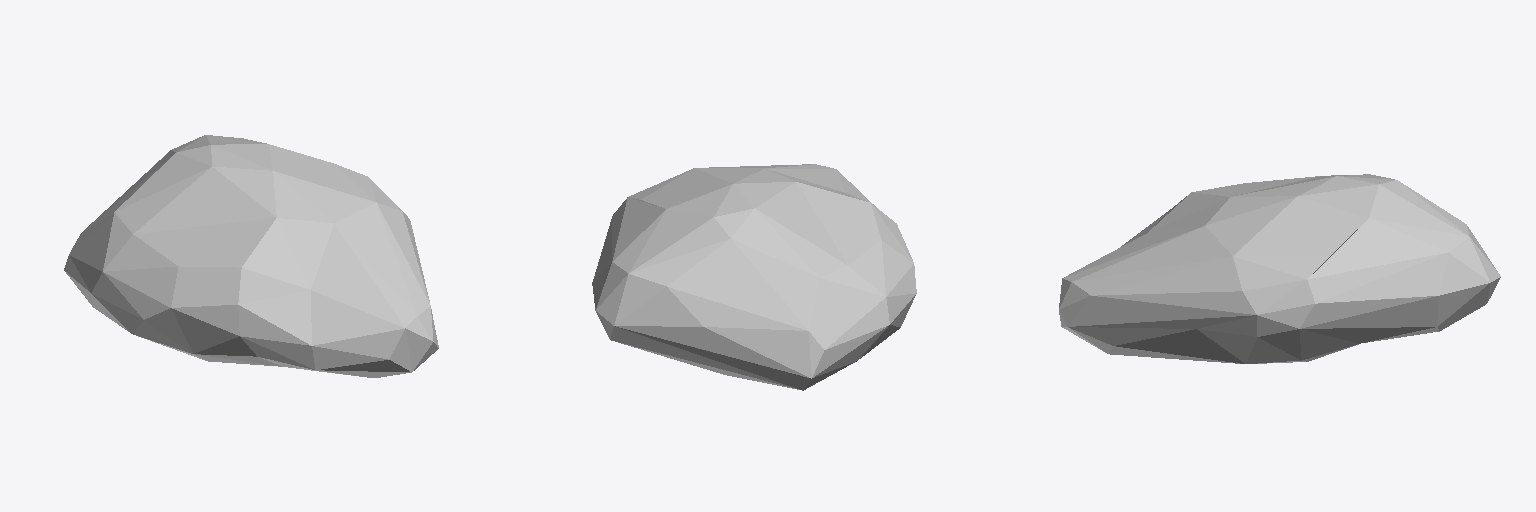
File: rock_03.obj
3 views of the same model, side by side, from view 1: azimuth 30°, elevation 25°; view 2: azimuth 150°, elevation 25°; view 3: azimuth 270°, elevation 25° (orthographic).
Visible parts, largest first — view 1: Icosphere; view 2: Icosphere; view 3: Icosphere.
Part boxes in pixels (x1,y1,x2,y2): Icosphere: (64,135,438,377); Icosphere: (592,164,916,390); Icosphere: (1059,174,1500,363).
Bounding box in the file's own units: 2.58 × 1.27 × 3.44.